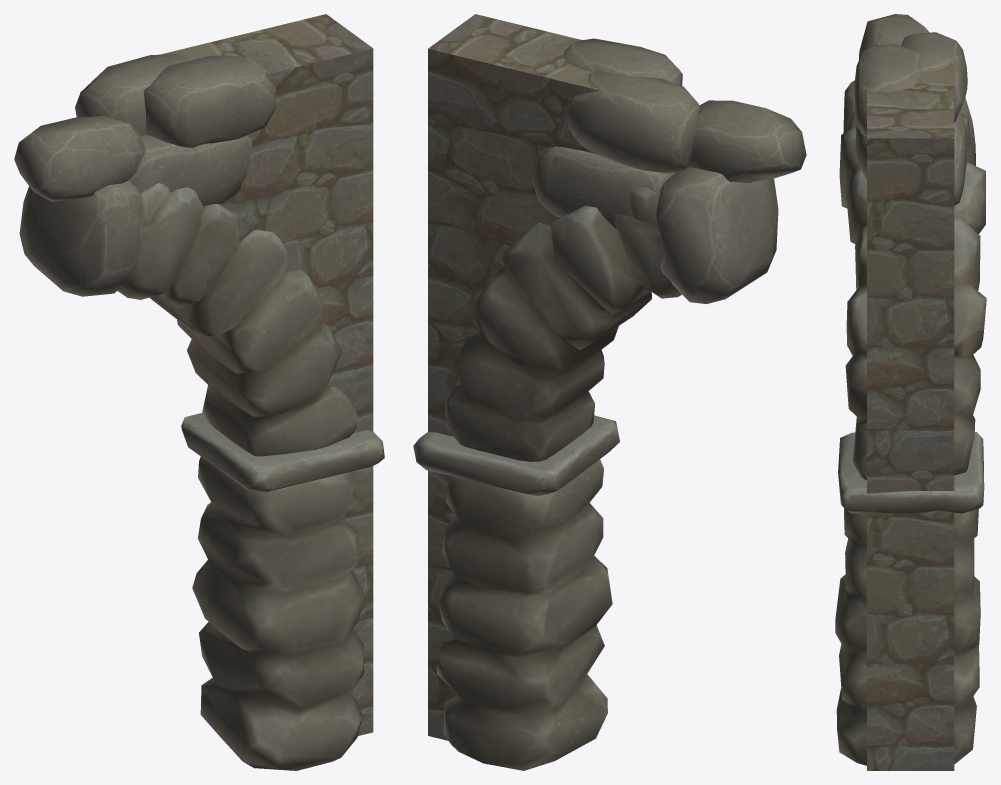
Rendered from SM_FW01_Ruins_Int_Doorway_A_4x4_Brkn_01.fbx.
3 views of the same model, side by side, from view 1: azimuth 30°, elevation 25°; view 2: azimuth 150°, elevation 25°; view 3: azimuth 270°, elevation 25° (orthographic). The views are drawn at different scales.
Visible parts, largest first — view 1: SM_FW01_Ruins_Int_Doorway_A_4x4_Brkn_01_LOD0, SM_FW01_Ruins_Int_Doorway_A_4x4_Brkn_01; view 2: SM_FW01_Ruins_Int_Doorway_A_4x4_Brkn_01_LOD0, SM_FW01_Ruins_Int_Doorway_A_4x4_Brkn_01; view 3: SM_FW01_Ruins_Int_Doorway_A_4x4_Brkn_01, SM_FW01_Ruins_Int_Doorway_A_4x4_Brkn_01_LOD0.
Part boxes in pixels (x1=…): SM_FW01_Ruins_Int_Doorway_A_4x4_Brkn_01_LOD0: x1=14, y1=54, x2=384, y2=770; SM_FW01_Ruins_Int_Doorway_A_4x4_Brkn_01: x1=160, y1=14, x2=373, y2=735; SM_FW01_Ruins_Int_Doorway_A_4x4_Brkn_01_LOD0: x1=413, y1=38, x2=806, y2=770; SM_FW01_Ruins_Int_Doorway_A_4x4_Brkn_01: x1=428, y1=14, x2=599, y2=740; SM_FW01_Ruins_Int_Doorway_A_4x4_Brkn_01: x1=867, y1=61, x2=954, y2=770; SM_FW01_Ruins_Int_Doorway_A_4x4_Brkn_01_LOD0: x1=835, y1=14, x2=986, y2=765.
Size of what is drawn, in the model's own units: 2.08 by 4.13 by 0.869.
